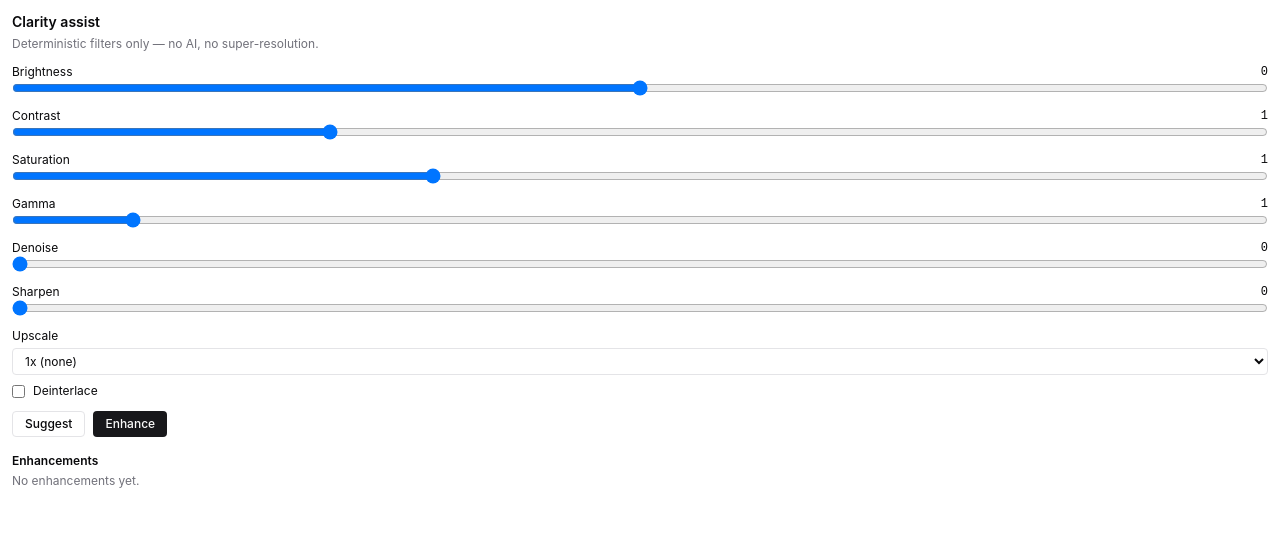
Test: EnhancementPanel › pre-fills parameters and lists reasons after suggest
Click the button with test id "enhancement-suggest": click(49, 424) 12,411 -> 85,437
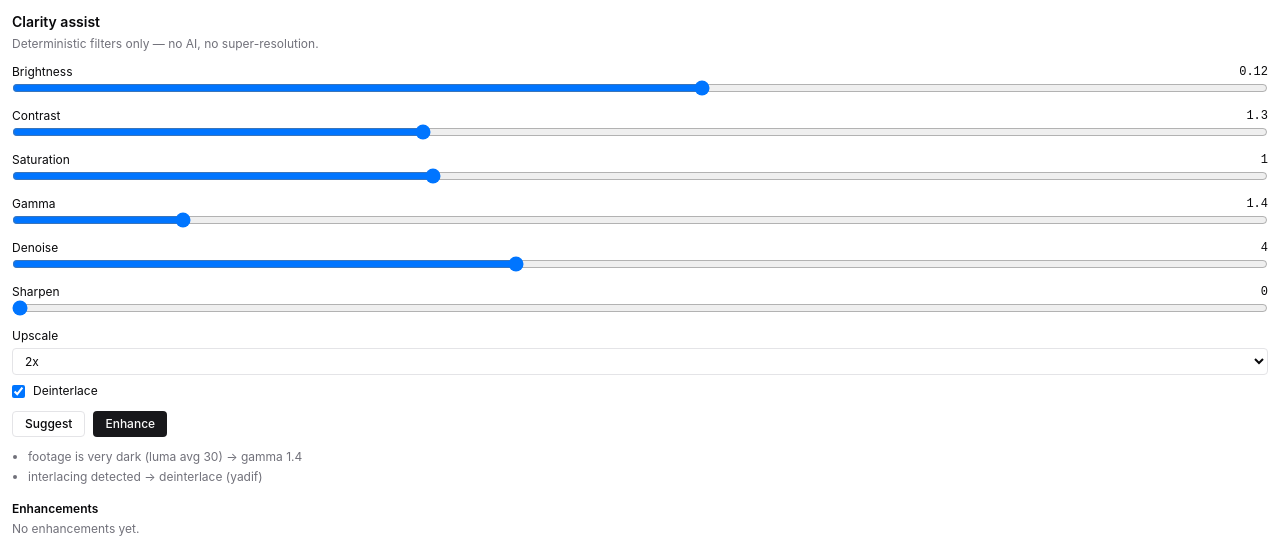
Expected: the list with test id "enhancement-reasons" shows "interlacing detected", 28,469 -> 263,484
Expected: the slider labelled "Gamma 1.4" holds "1.4", 12,212 -> 1268,228
